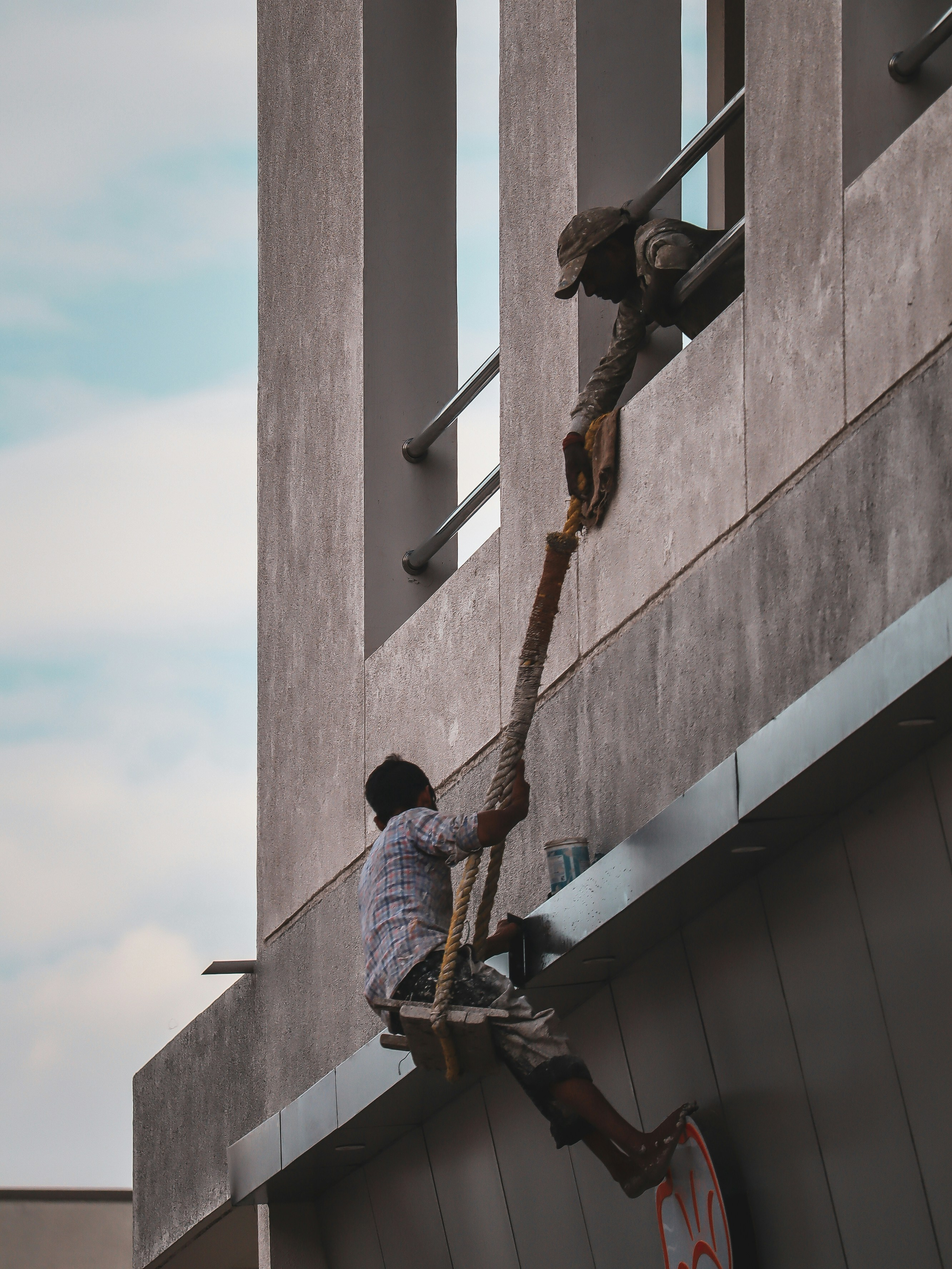No_Helmet: (365, 755, 435, 826)
